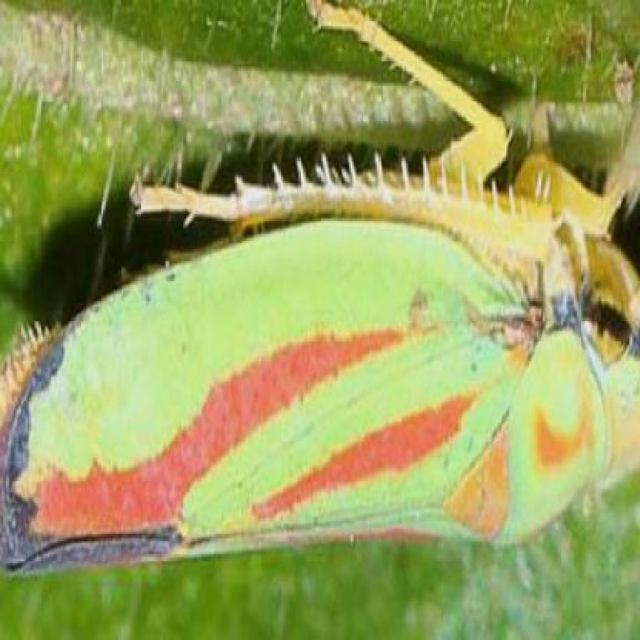green-leafhopper: (2, 178, 623, 554)
